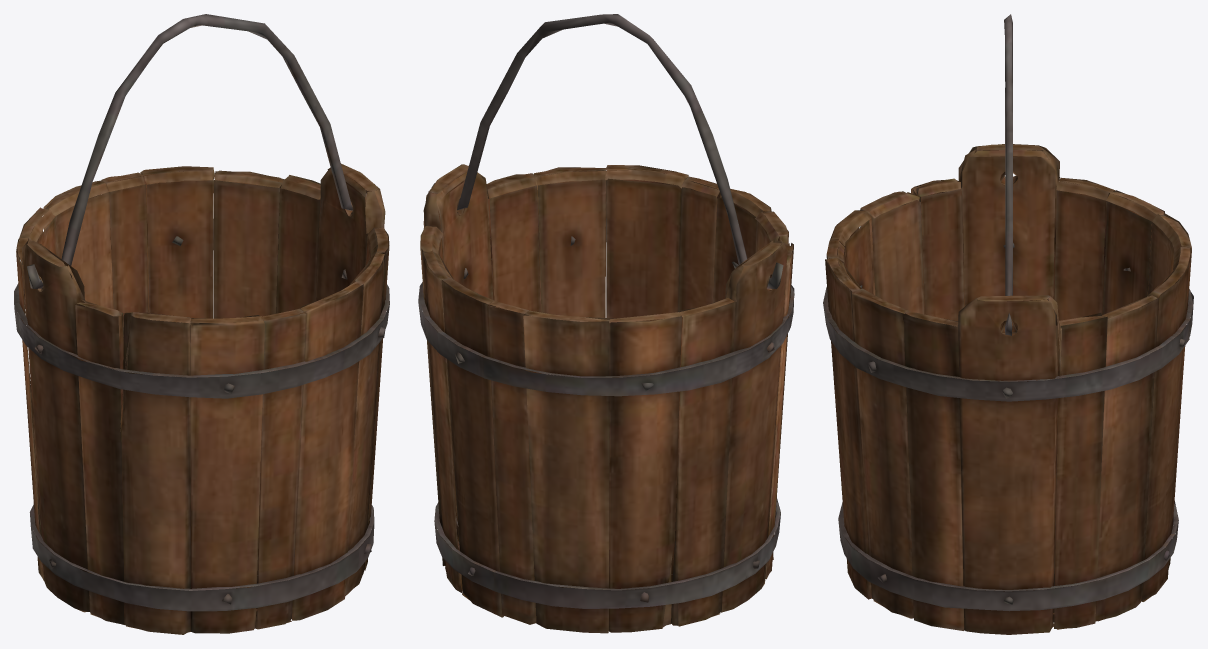
Rendered from bucket.glb.
3 renders of one model, left to right at view 1: azimuth 30°, elevation 25°; view 2: azimuth 150°, elevation 25°; view 3: azimuth 270°, elevation 25°, orthographic.
Visible parts, largest first — view 1: bucket; view 2: bucket; view 3: bucket.
Boxes of the visible parts, x1=… form: bucket: x1=14, y1=14, x2=389, y2=634; bucket: x1=418, y1=14, x2=794, y2=633; bucket: x1=823, y1=14, x2=1193, y2=634.
Bounding box in the file's own units: 0.2334 × 0.3514 × 0.2175.
Materials: 1 (1 with a texture image).
